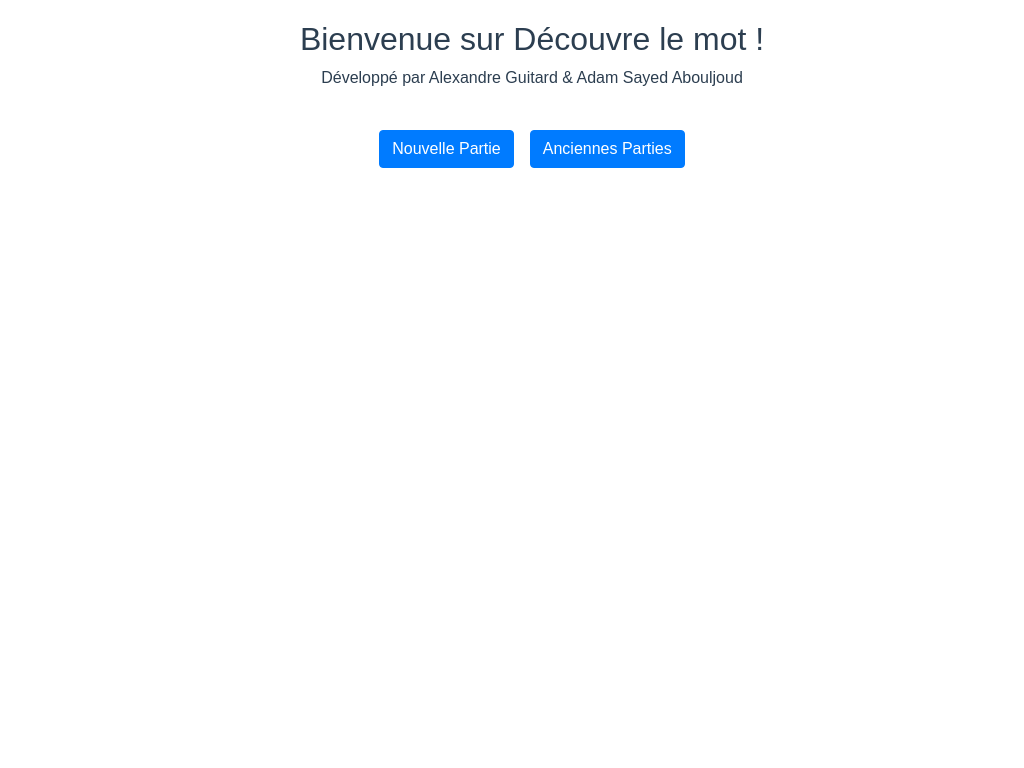
Make sure our todo list app is working well › Launch a game
This screenshot has width=1024, height=768.
Click the button with id "newGame".
click(447, 149)  # box [379,130,514,168]
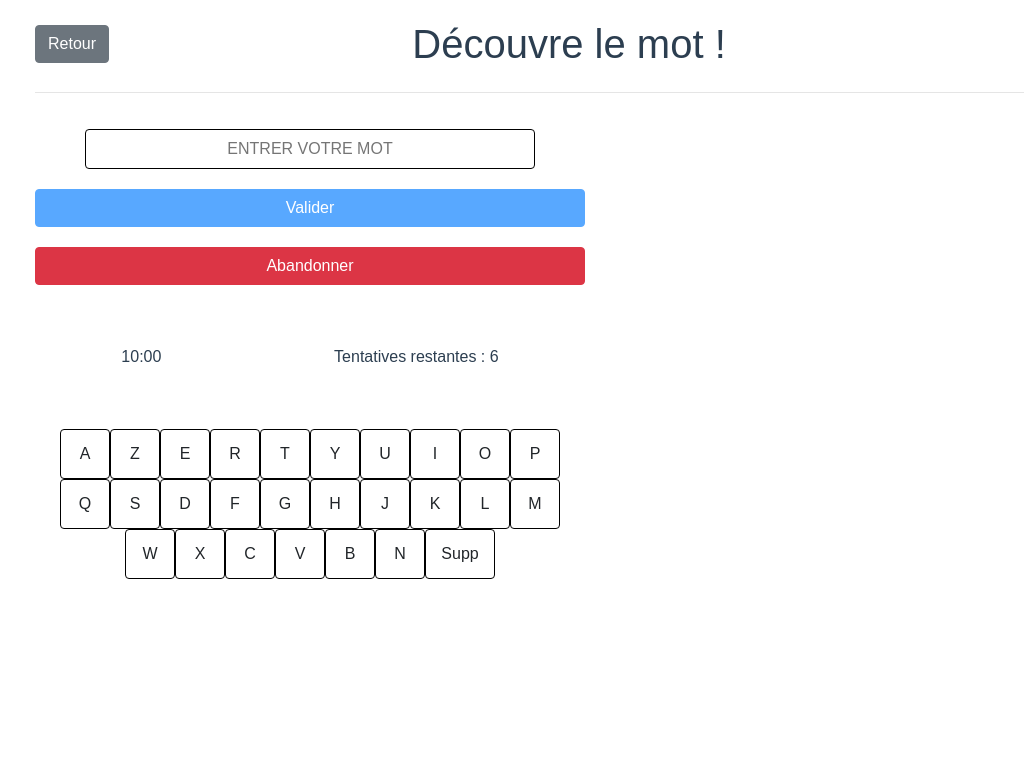
Result: the field with placeholder "Entrer votre mot" is shown at [85,129,535,169]
